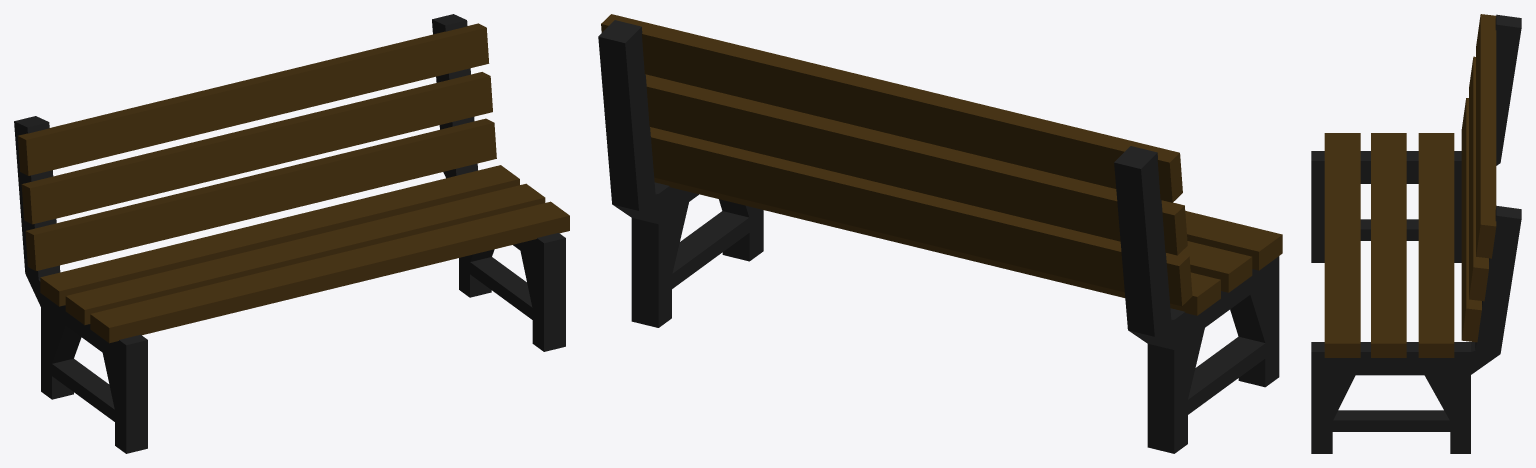
Rendered from bench.fbx.
The picture shows the model from 3 angles, left to right: view 1: azimuth 30°, elevation 25°; view 2: azimuth 150°, elevation 25°; view 3: azimuth 270°, elevation 25°; orthographic projection. The views are drawn at different scales.
Parts seen in each view (by area): view 1: bench; view 2: bench; view 3: bench.
Part boxes in pixels (x1,y1,x2,y2): bench: (14, 14, 569, 453); bench: (598, 14, 1282, 453); bench: (1311, 14, 1521, 453).
Bounding box in the file's own units: 355 × 187 × 150.
